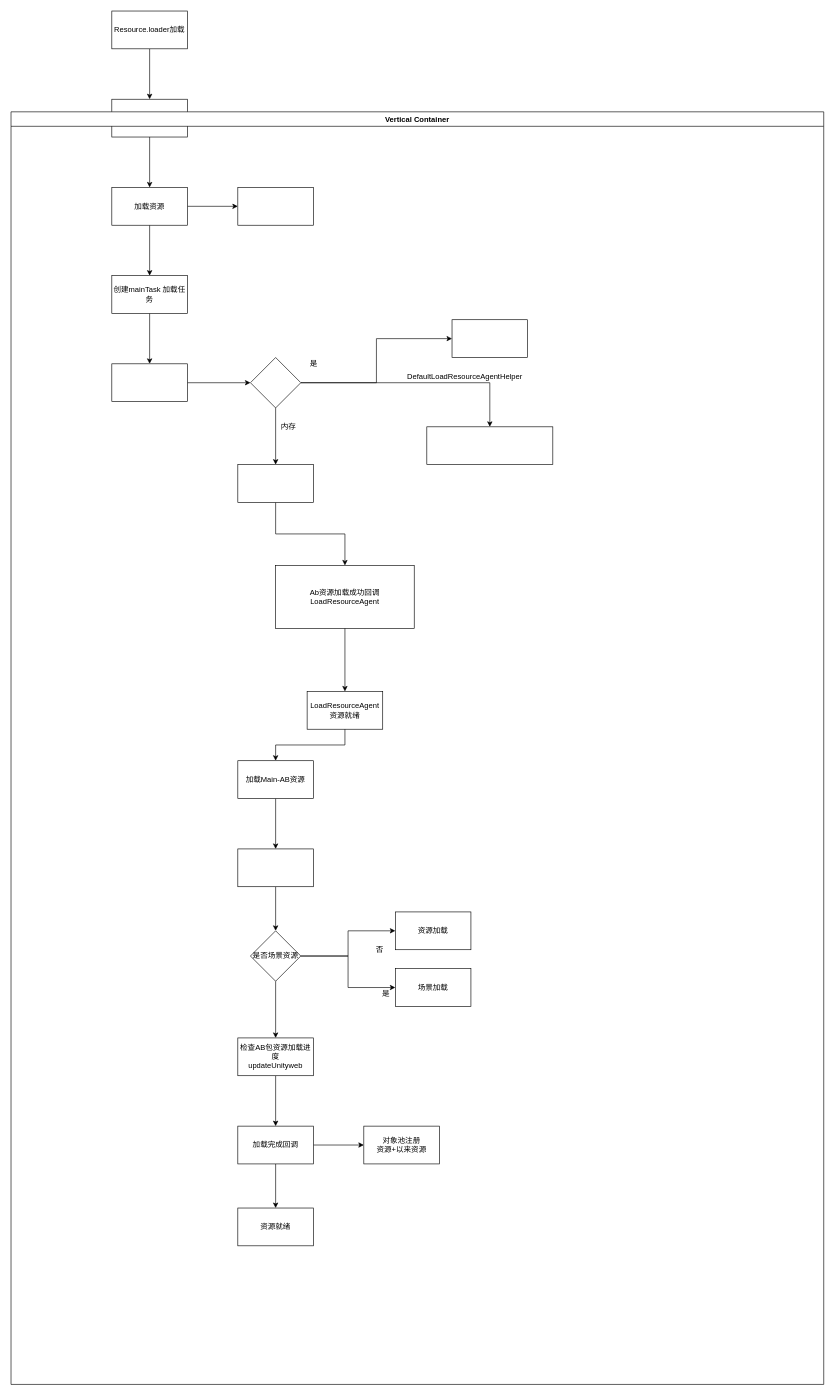
This 835x1395 diagram has some shape labels left out. The shapes that lost their labels are listed below. From the top down, each one's centre as x and y in pixels, then its label:
At (275,206): "加载依赖资源".
At (489,338): "读取二进制".
At (149,382): "LoadResourceAgent".
At (275,382): "文件读取".
At (489,445): "从文件读取".
At (275,483): "Assetbundle加载资源 UpdateFileAssetBundleCreateRequest".
At (275,867): "DefaultLoadResourceAgentHelper 加载AB包资源".
